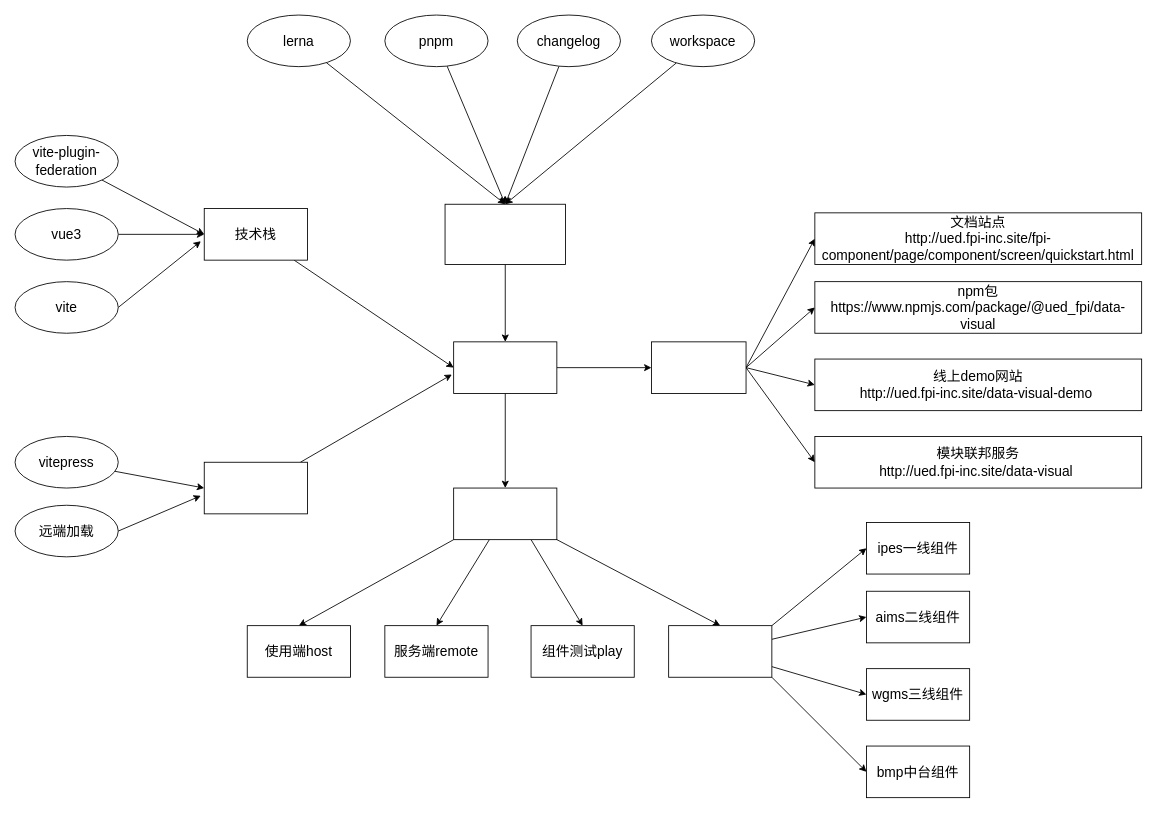
Some shapes in this 1157 by 813 pixel diagram are drawn without their labels. Each missing label, with the centre of its shape:
CI发布: pixel 698 367
data-visual: pixel 505 367
monorepo管理工程: pixel 504 233
packages: pixel 720 651
工程架构: pixel 505 513
文档支持: pixel 255 487
